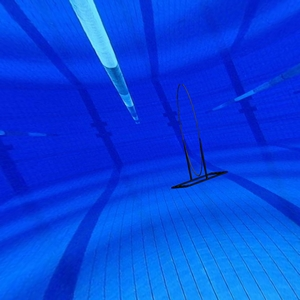circle: (170, 83, 230, 190)
